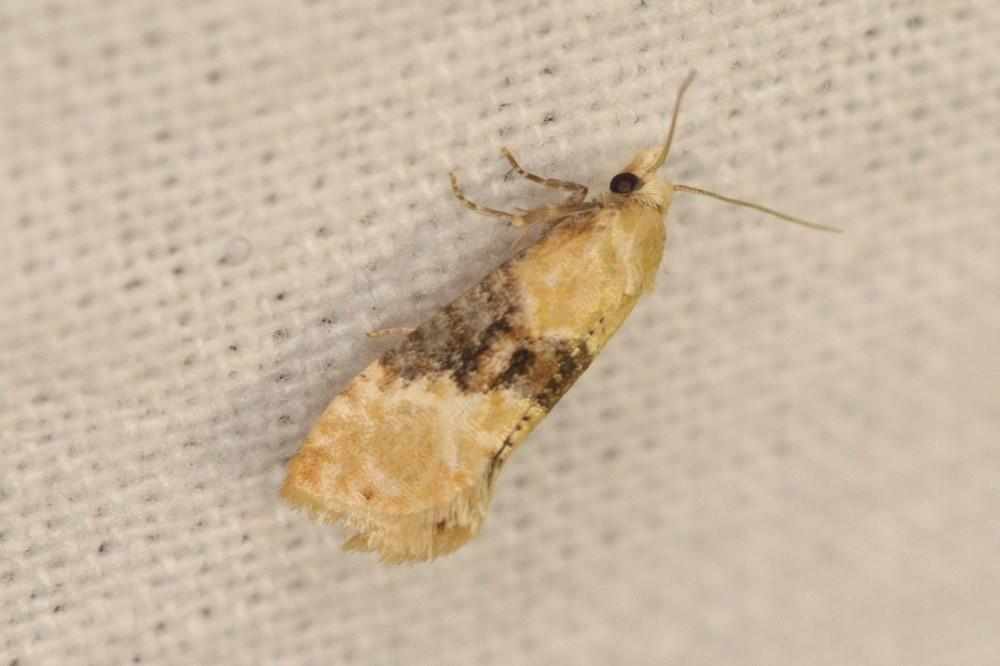Eupoecilia Ambiguella: (276, 66, 844, 568)
